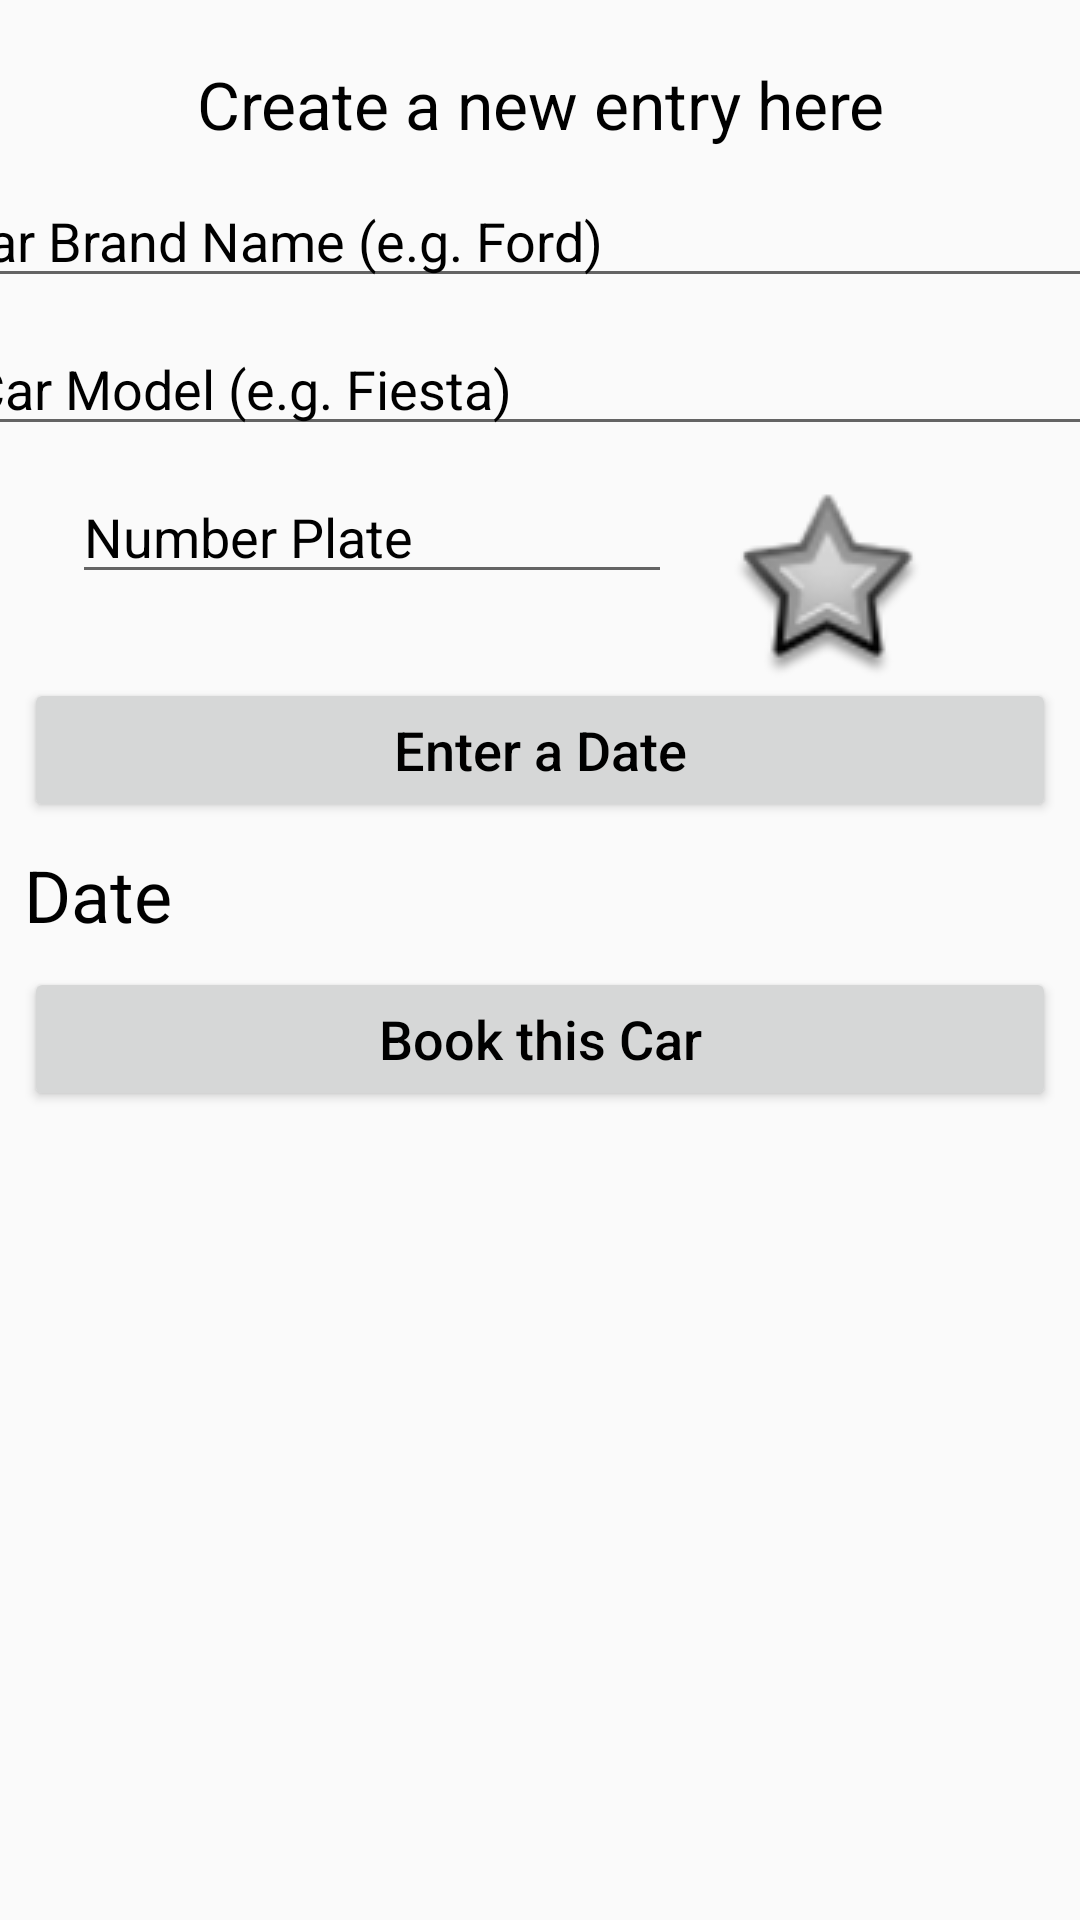

Icon click points for this 1080w x 1920h phone screenshot, format point (x, y):
star off: point (828, 581)
